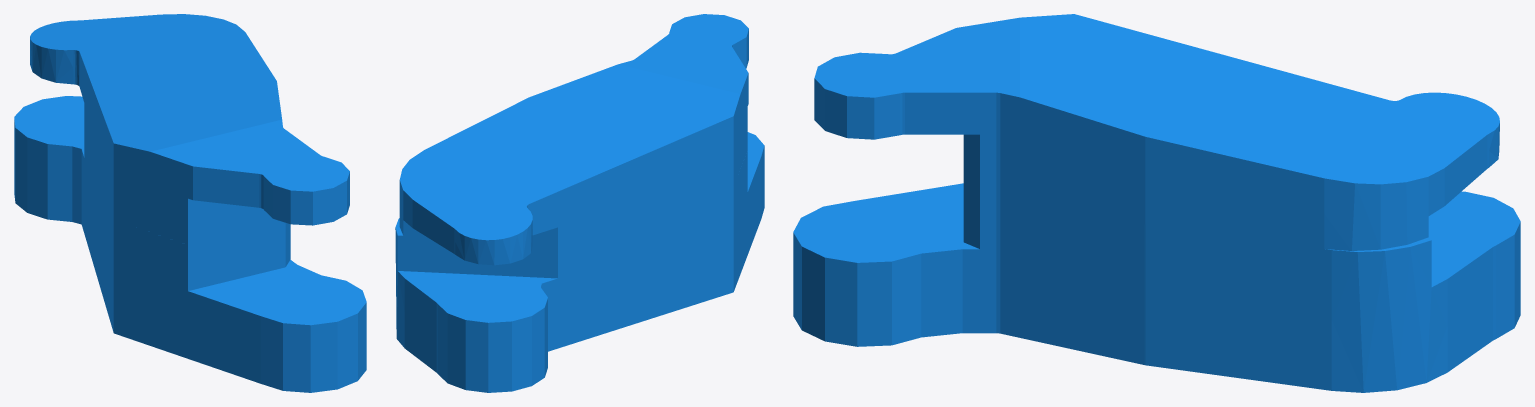
The model's file is RLEG_LINK2_mesh.dae.
3 renders of one model, left to right at view 1: azimuth 30°, elevation 25°; view 2: azimuth 150°, elevation 25°; view 3: azimuth 270°, elevation 25°, orthographic. The views are drawn at different scales.
Visible parts, largest first — view 1: RLEG_LINK2; view 2: RLEG_LINK2; view 3: RLEG_LINK2.
Part boxes in pixels (x1,y1,x2,y2): RLEG_LINK2: [14, 14, 366, 392]; RLEG_LINK2: [395, 14, 764, 392]; RLEG_LINK2: [793, 14, 1520, 392].
Size of the model in its own units: 0.2056 by 0.1605 by 0.44.
